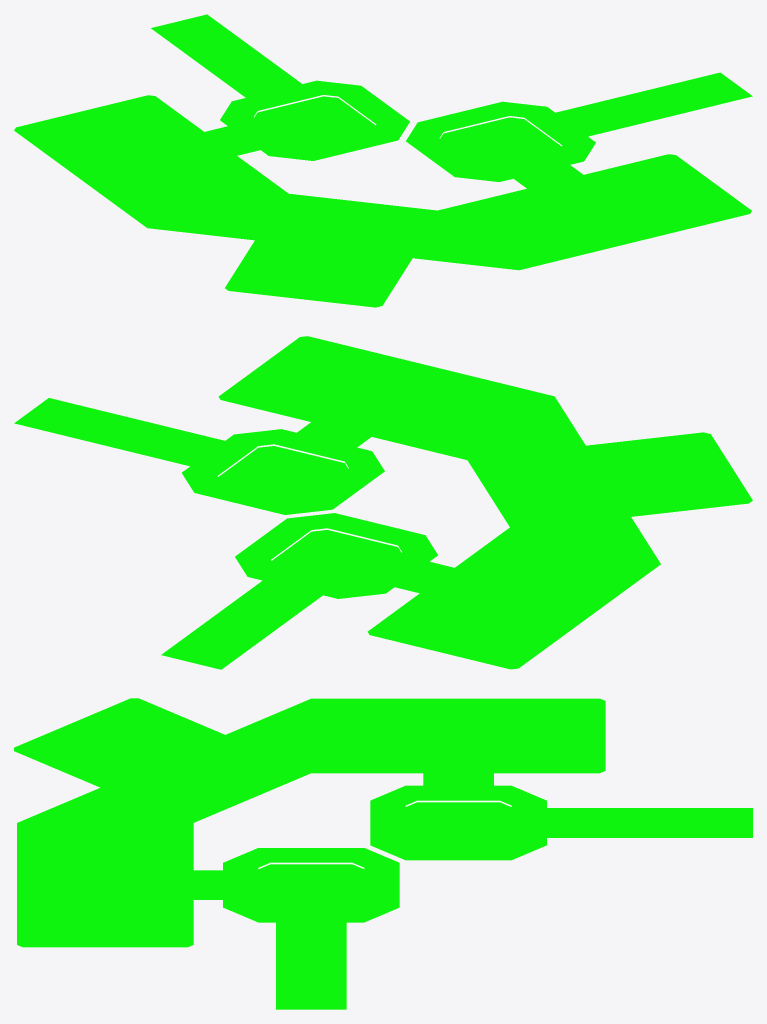
The model's file is s06b_lc2-floor.glb.
3 views of the same model, one above another, from view 1: azimuth 30°, elevation 25°; view 2: azimuth 150°, elevation 25°; view 3: azimuth 270°, elevation 25° (orthographic). The views are drawn at different scales.
Visible parts, largest first — view 1: collision_floor-colonly; view 2: collision_floor-colonly; view 3: collision_floor-colonly.
Boxes of the visible parts, x1,y1,x2,y2 form: collision_floor-colonly: (14, 14, 752, 307); collision_floor-colonly: (14, 336, 752, 669); collision_floor-colonly: (14, 698, 752, 1009).
Bounding box in the file's own units: 62.75 × 0.1504 × 62.75.
